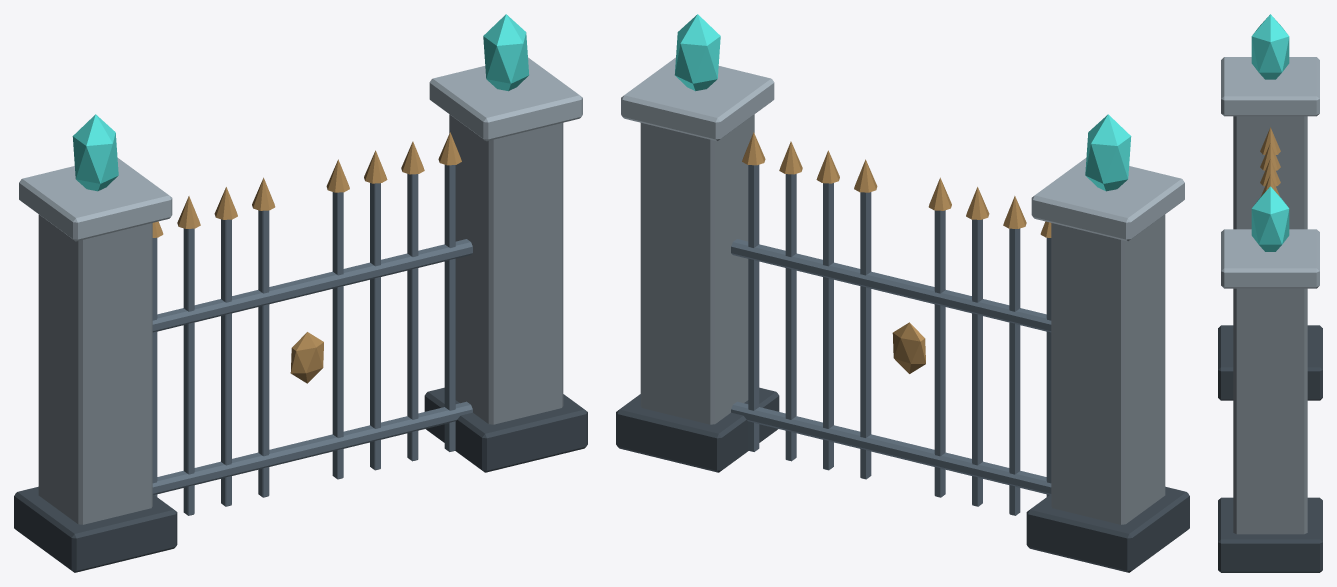
File: SH10_L01_Gate.fbx
3 renders of one model, left to right at view 1: azimuth 30°, elevation 25°; view 2: azimuth 150°, elevation 25°; view 3: azimuth 270°, elevation 25°, orthographic. The views are drawn at different scales.
Visible parts, largest first — view 1: SH10_L01_Gate; view 2: SH10_L01_Gate; view 3: SH10_L01_Gate.
Boxes of the visible parts, <box> form: SH10_L01_Gate: <box>14,14,587,572</box>; SH10_L01_Gate: <box>616,14,1189,572</box>; SH10_L01_Gate: <box>1218,14,1322,572</box>.
Bounding box in the file's own units: 415 × 327 × 85.
